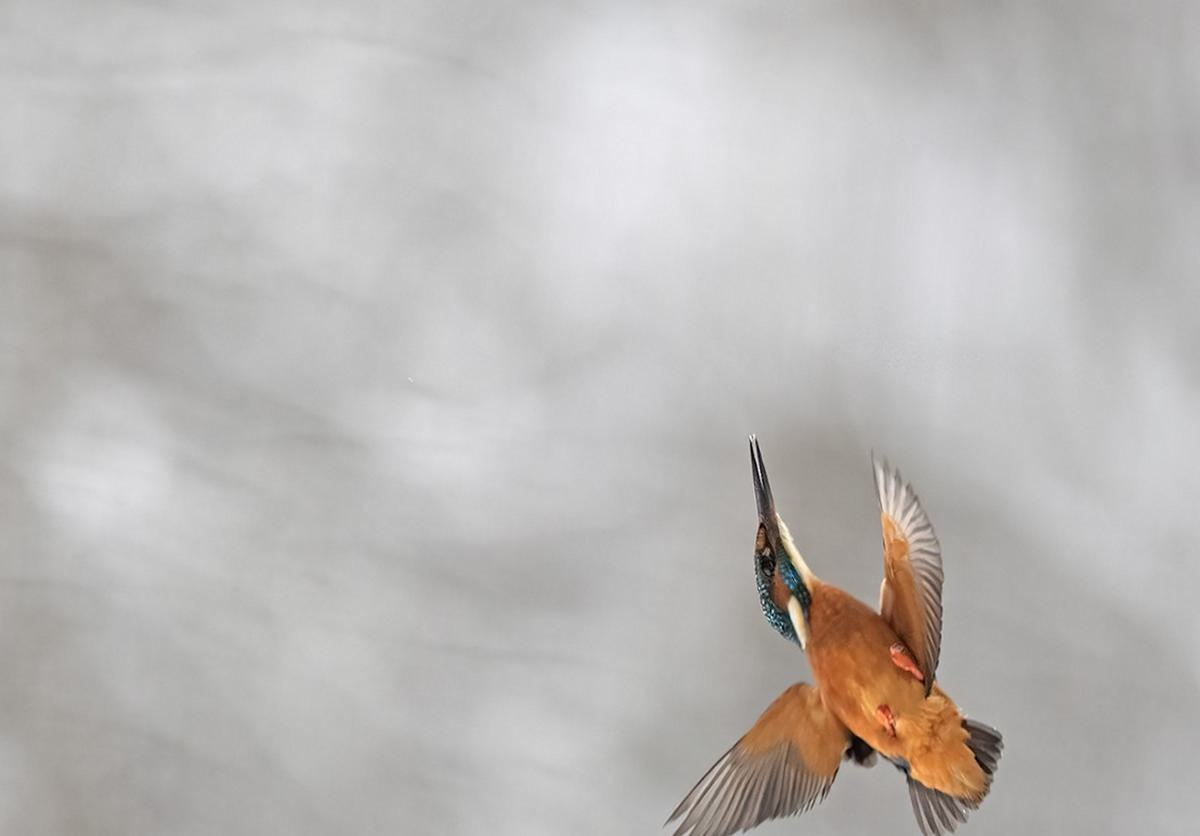kingfisher: (673, 409, 1043, 836)
